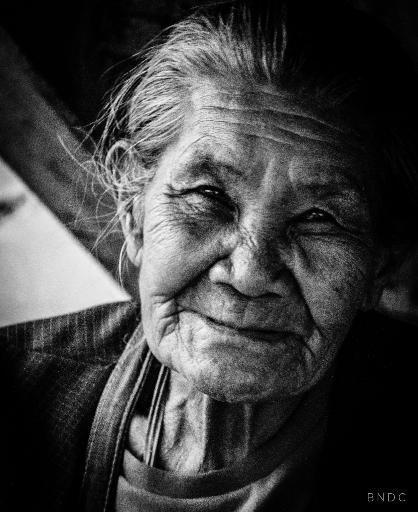left_eye: (290, 204, 343, 229)
left_lip_corner: (278, 324, 304, 350)
right_eye: (184, 180, 239, 216)
right_lip_corner: (193, 305, 227, 334)
